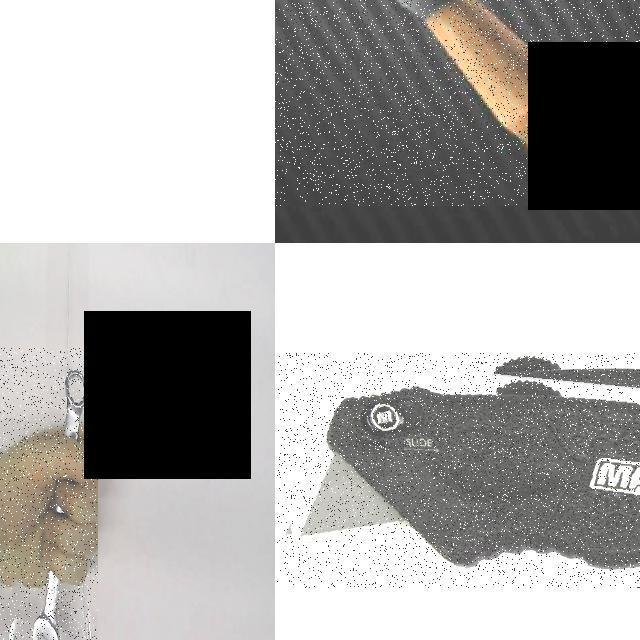estilete: (304, 382, 639, 566)
